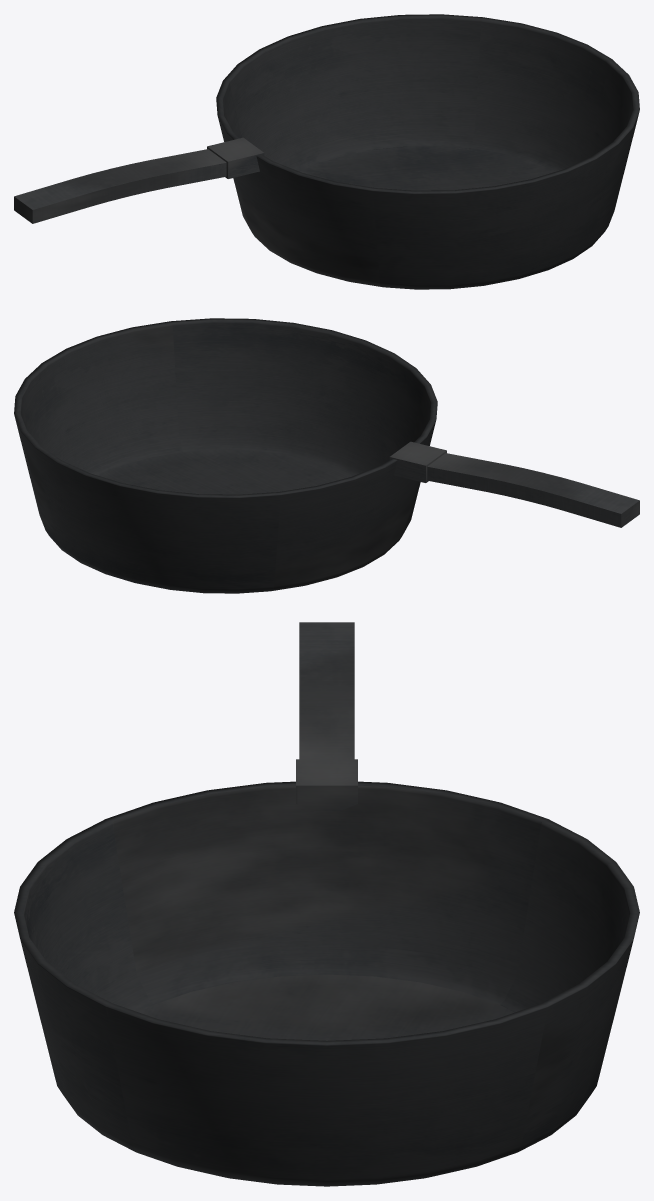
File: WOK.fbx
The picture shows the model from 3 angles, top to bottom: view 1: azimuth 30°, elevation 25°; view 2: azimuth 150°, elevation 25°; view 3: azimuth 270°, elevation 25°; orthographic projection. The views are drawn at different scales.
Visible parts, largest first — view 1: WOK; view 2: WOK; view 3: WOK.
Boxes of the visible parts, x1,y1,x2,y2 form: WOK: [14, 14, 639, 289]; WOK: [14, 318, 639, 593]; WOK: [14, 622, 639, 1186].
Size of the model in its own units: 0.6688 by 0.4179 by 0.1314.
